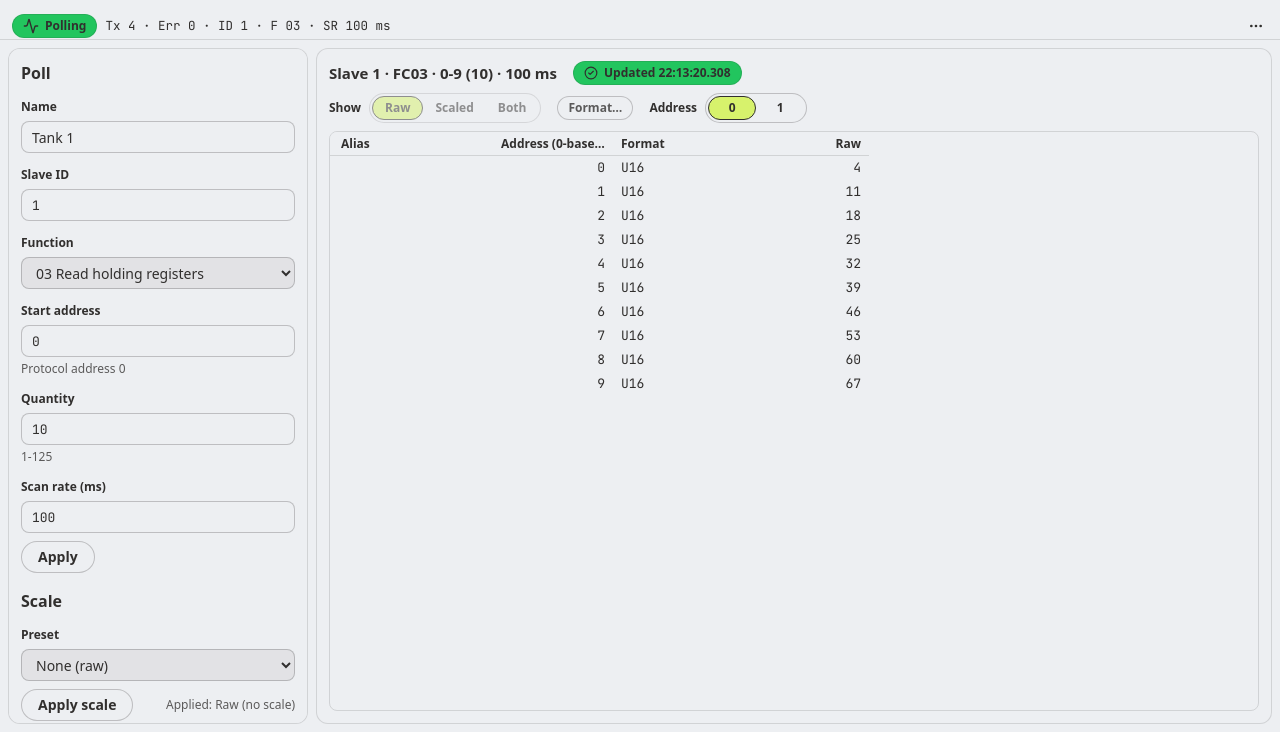
Test: the scale section in the workspace host › Apply scale sends the scale, shows 'Applied: ...' and switches the table to Both (C10)
Select "4-20 mA" in the dropdown labelled "Preset" at (158, 665), box [21, 649, 295, 681]
(page scrolled)
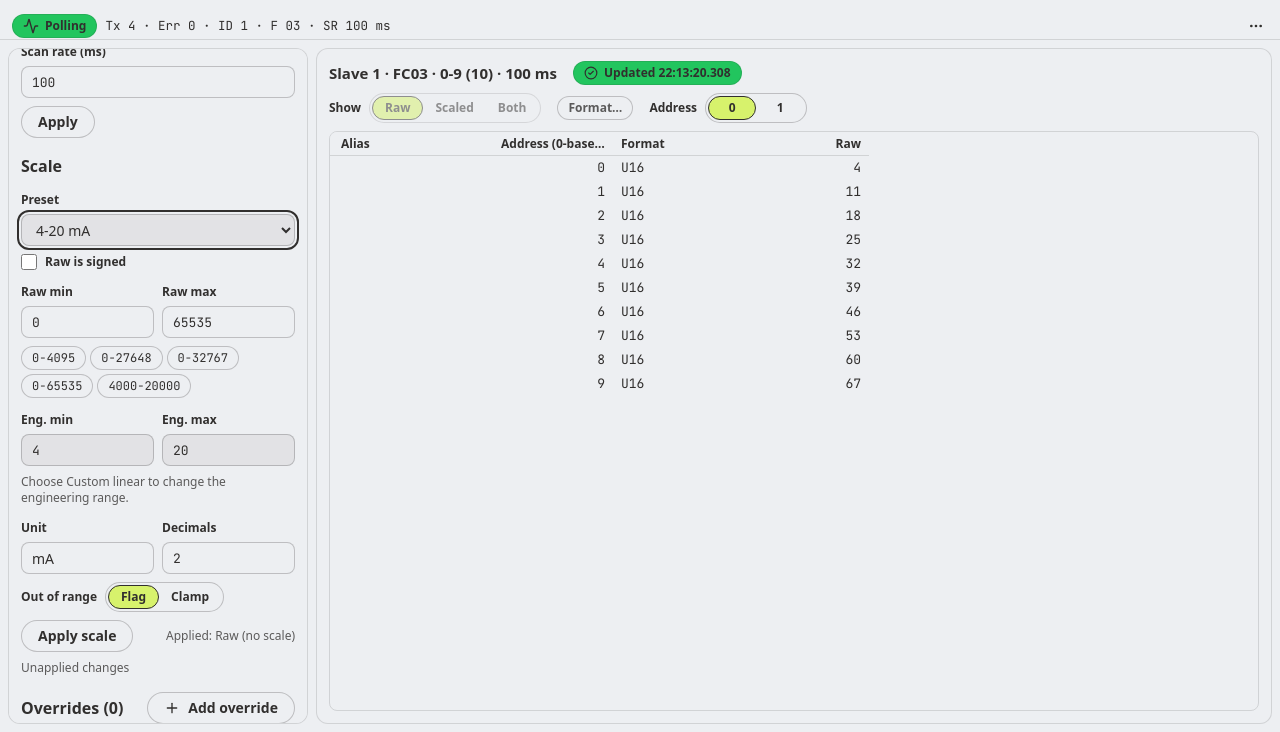
Click the button "4000-20000".
click(144, 386)  # box [97, 374, 191, 398]
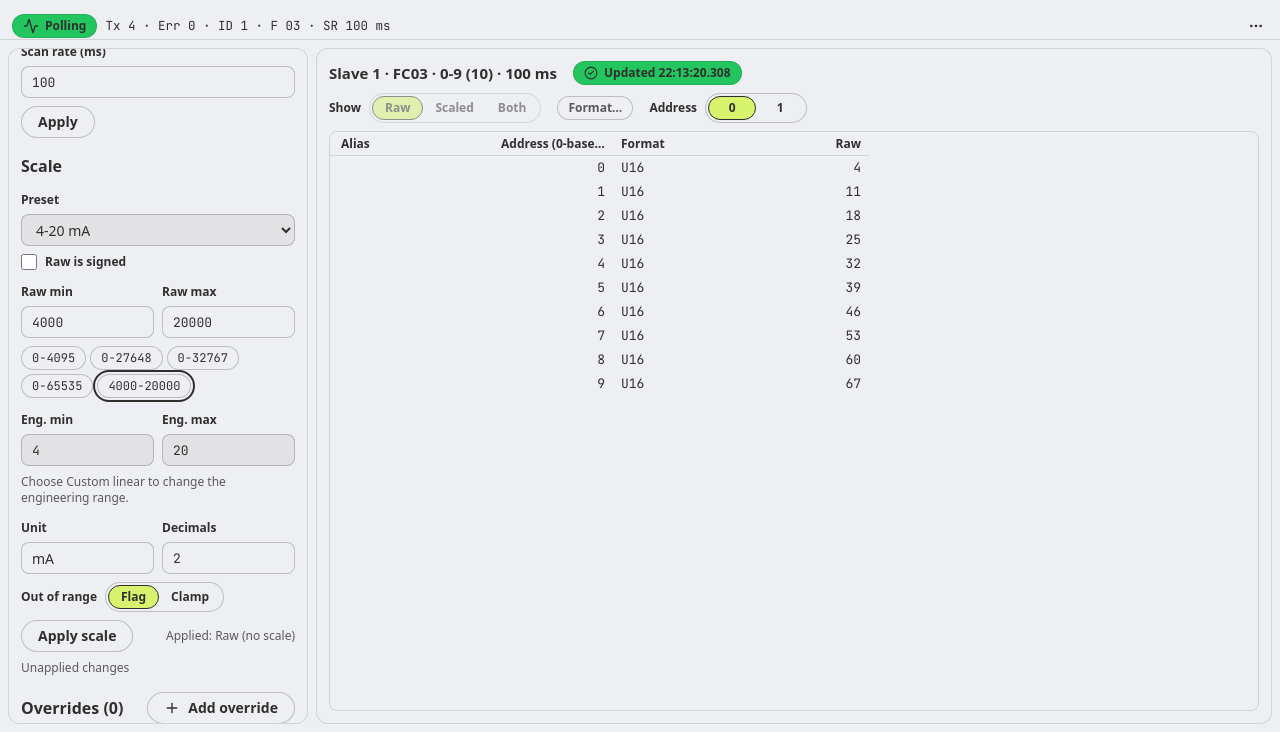
Click the button "Apply scale".
click(77, 636)  # box [21, 620, 133, 652]
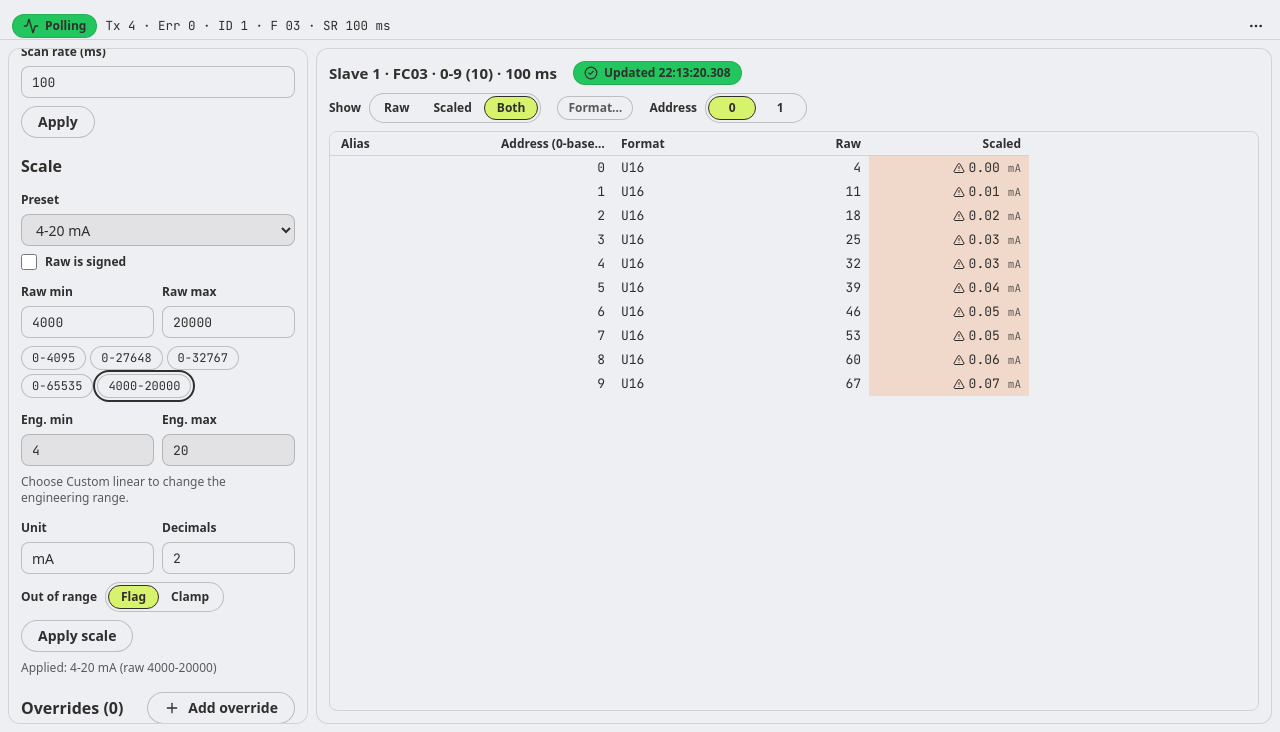
Result: the text with test id "applied-scale" reads "Applied: 4-20 mA (raw 4000-20000)" at [21, 659, 216, 676]
Result: the text with test id "scale-unapplied" is gone
Result: the column heading named "Scaled value" is shown at [983, 135, 1021, 152]
